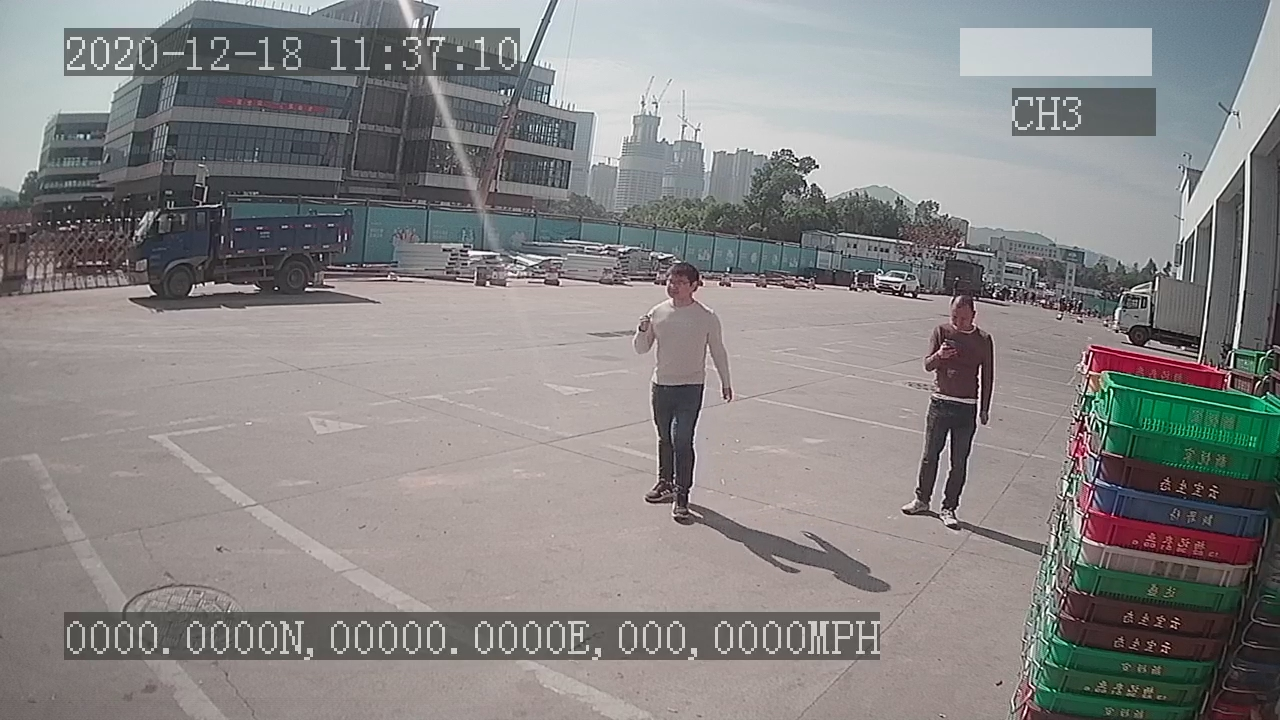person: (631, 258, 739, 523), (897, 286, 1000, 529)
